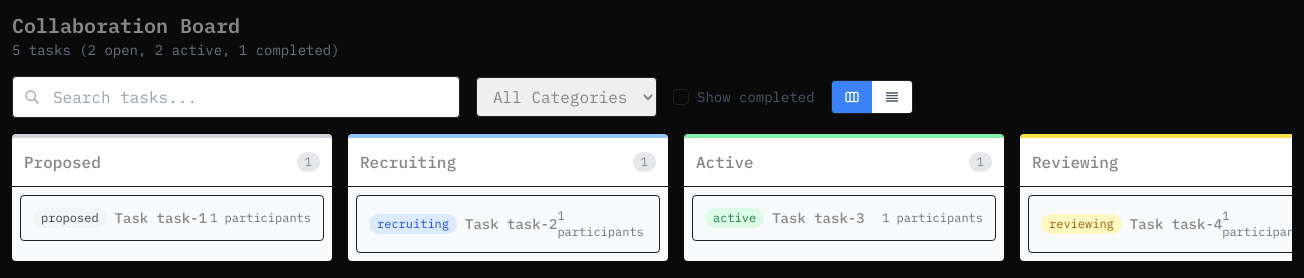
Test case: CollaborationBoard › Empty States › should show empty message when no tasks match filter
Type "nonexistent" into the field with placeholder "Search tasks..." at (236, 97), box [12,76,460,118]
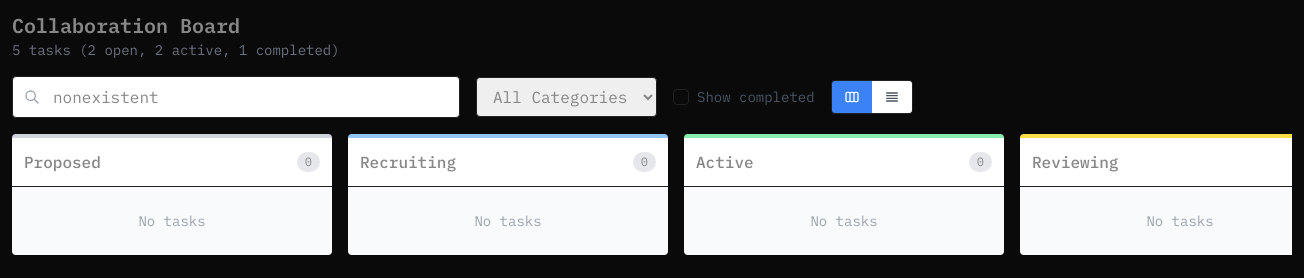
Note: Switch to list view to see empty message
Click the button named "list view" at (892, 97), box [872,81,912,113]
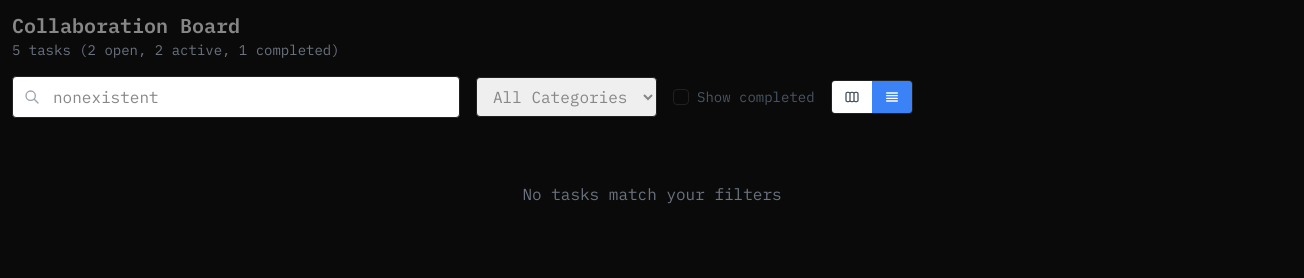
expect the text "No tasks match your filters" is shown: met, box [522,184,782,204]
